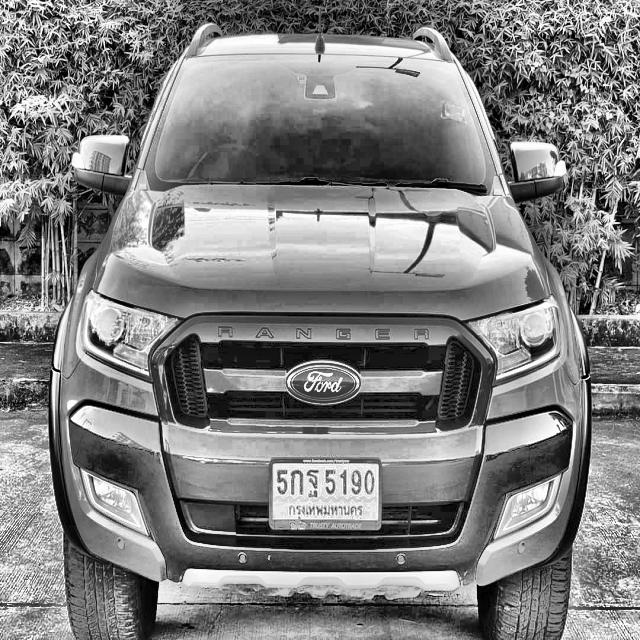license-plate: (269, 454, 385, 539)
